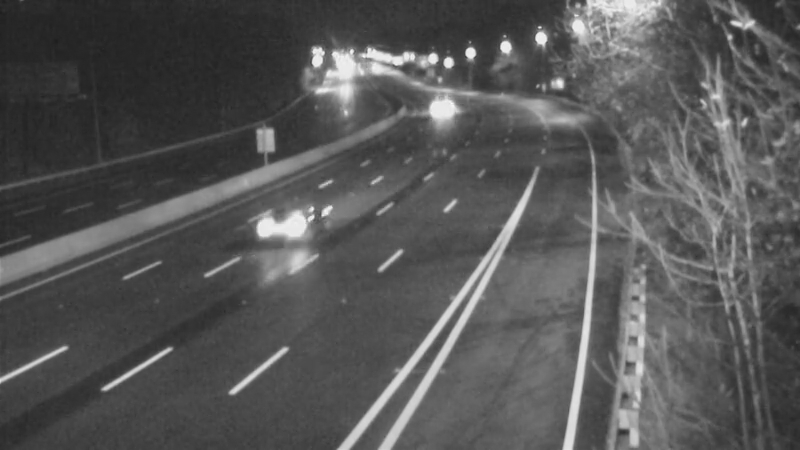vehicle: (242, 188, 322, 268), (402, 80, 452, 130)
